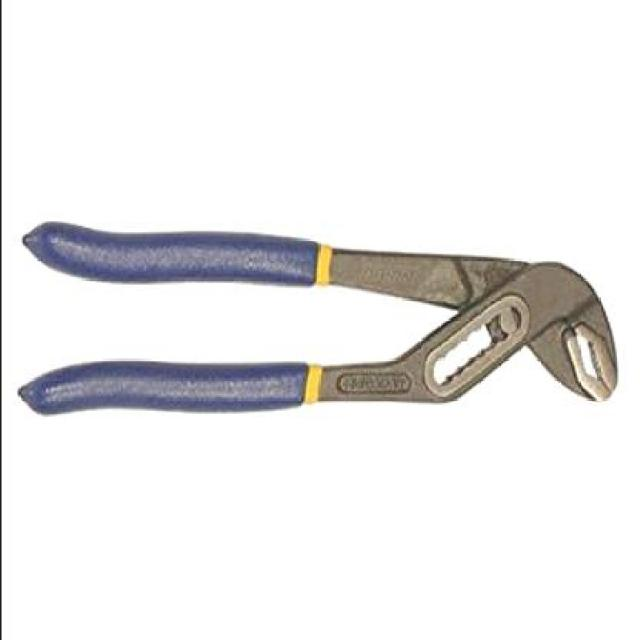Pliers: (11, 199, 635, 436)
